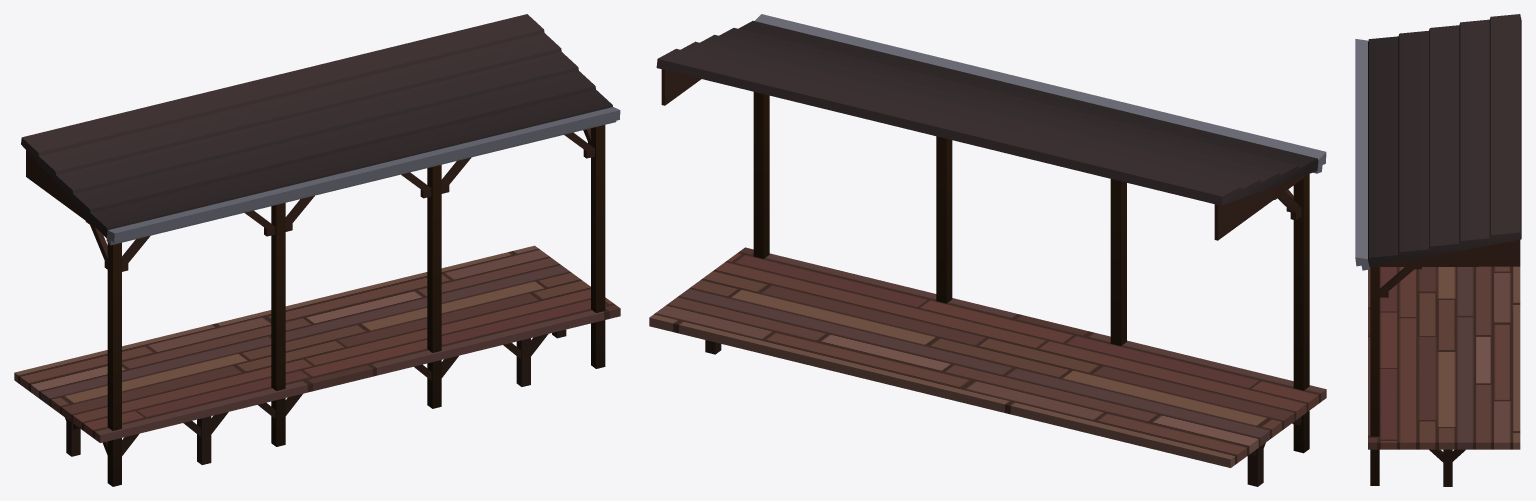
The model's file is Deck 7M v02.glb.
3 renders of one model, left to right at view 1: azimuth 30°, elevation 25°; view 2: azimuth 150°, elevation 25°; view 3: azimuth 270°, elevation 25°, orthographic. The views are drawn at different scales.
Parts seen in each view (by area): view 1: Deck 7M v02; view 2: Deck 7M v02; view 3: Deck 7M v02.
Boxes of the visible parts, left/top/right/bottom form: Deck 7M v02: left=14, top=14, right=620, bottom=486; Deck 7M v02: left=649, top=14, right=1326, bottom=486; Deck 7M v02: left=1355, top=14, right=1521, bottom=486.
Size of what is drawn, in the model's own units: 7 by 3.72 by 2.19.
2 materials, 2 textured.
